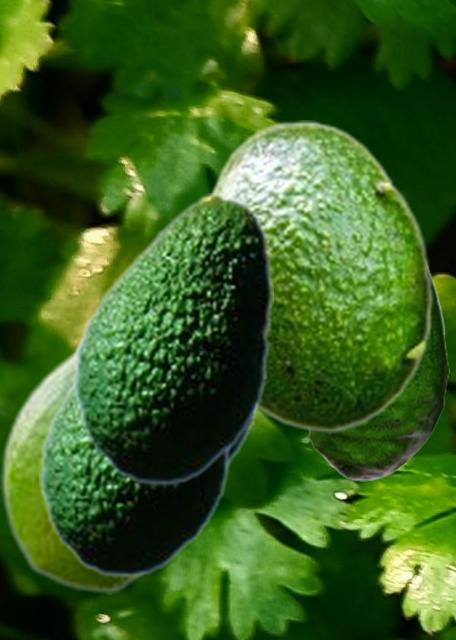avocado: (206, 120, 433, 432), (73, 193, 272, 485), (39, 379, 233, 577), (0, 339, 149, 593), (305, 269, 448, 480)
